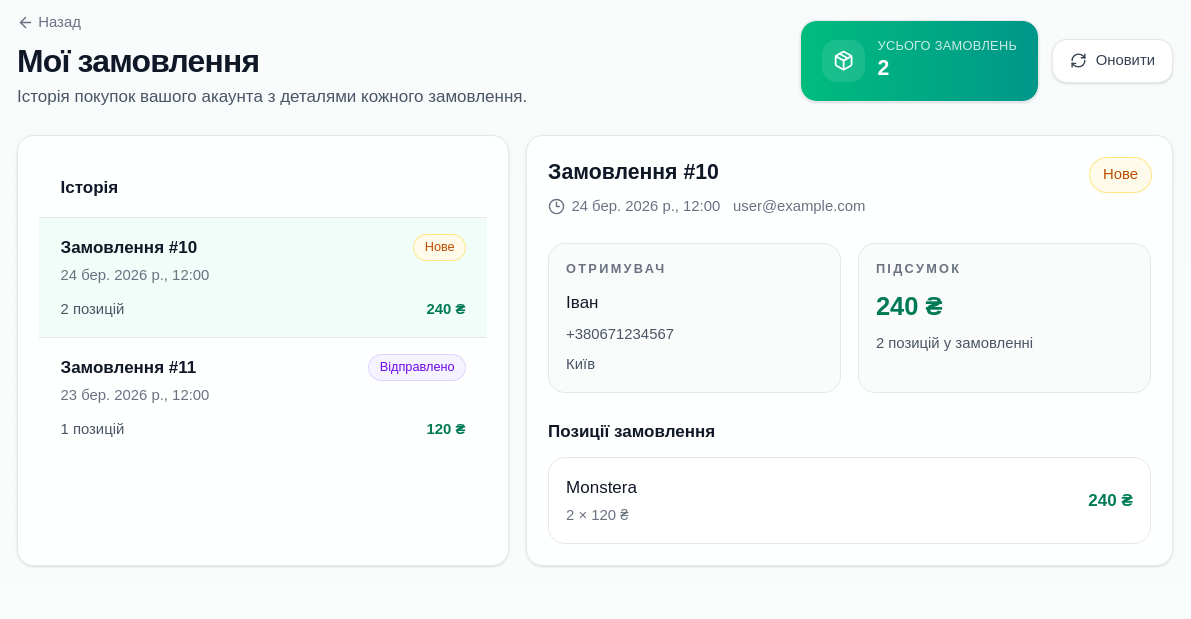
Test case: Dashboard orders page › завантажує реальну історію замовлень і показує detail для вибраного запису
Expected: the button "Замовлення #10 24 бер. 2026 р., 12:00 Нове 2 позицій 240 ₴" is shown, [39, 218, 487, 338]
Expected: the text "Monstera" is shown, [566, 475, 637, 500]
Click the button "Замовлення #11": (119,368) [39, 338, 487, 457]
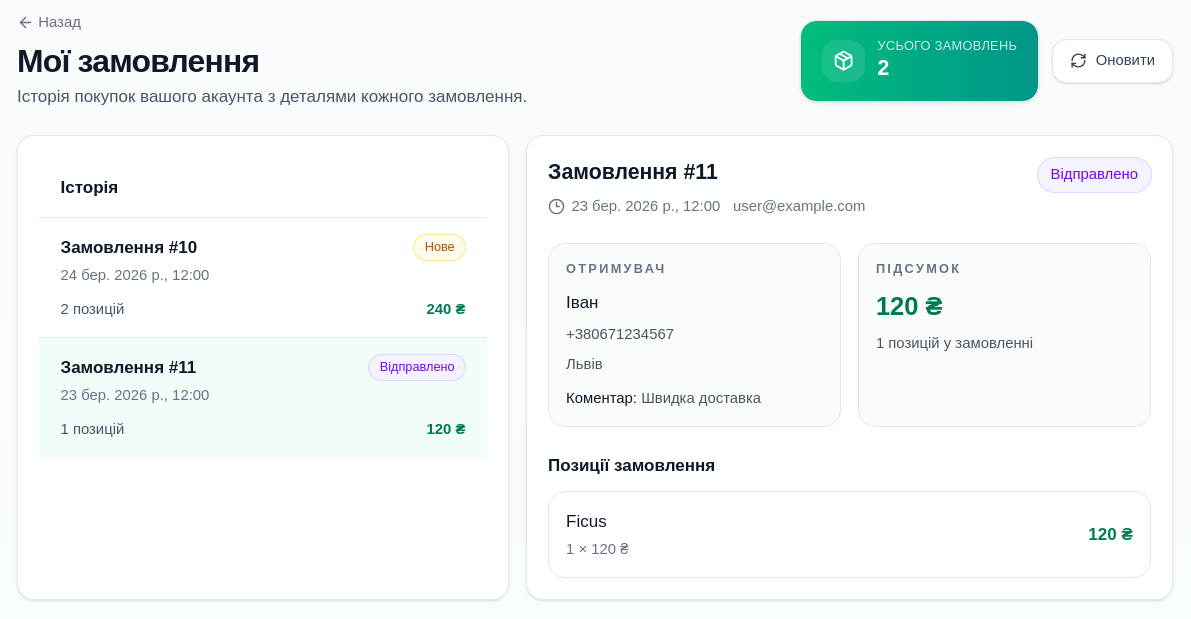
Expected: the text "Ficus" is shown, [566, 512, 607, 531]
Expected: the text "Швидка доставка" is shown, [641, 390, 761, 406]
